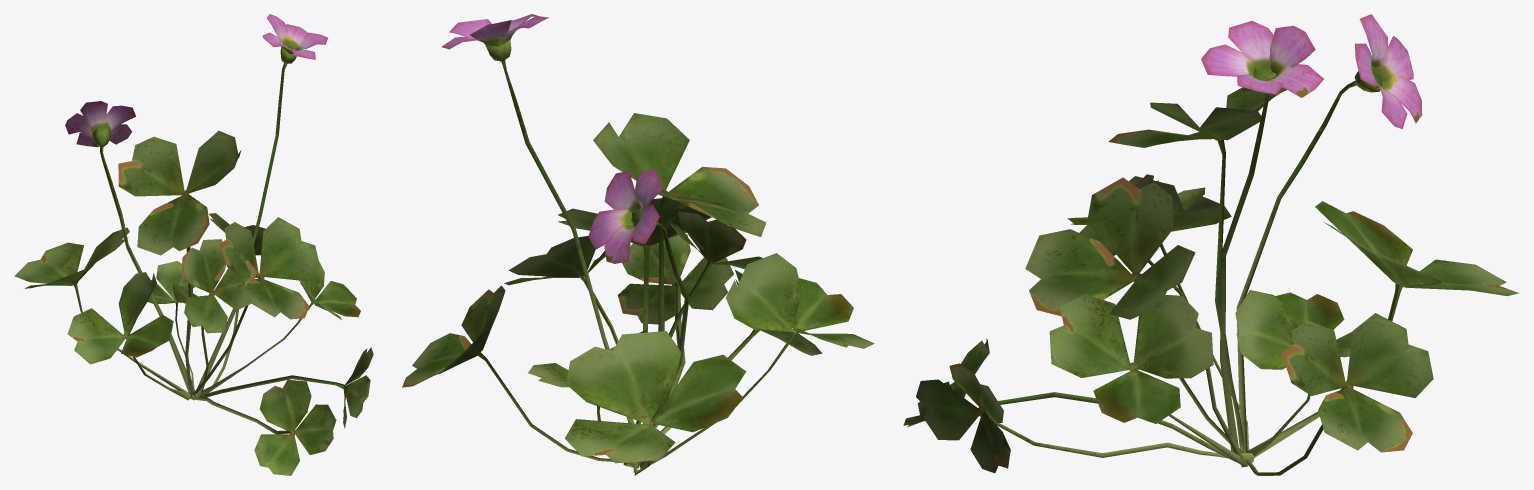
File: flower1.glb
The picture shows the model from 3 angles, left to right: view 1: azimuth 30°, elevation 25°; view 2: azimuth 150°, elevation 25°; view 3: azimuth 270°, elevation 25°; orthographic projection. The views are drawn at different scales.
Parts seen in each view (by area): view 1: shrub_sorrel_01_d.002; view 2: shrub_sorrel_01_d.002; view 3: shrub_sorrel_01_d.002.
Part boxes in pixels (left/top/right/bottom): shrub_sorrel_01_d.002: left=14, top=14, right=373, bottom=475; shrub_sorrel_01_d.002: left=402, top=14, right=874, bottom=475; shrub_sorrel_01_d.002: left=903, top=14, right=1518, bottom=475.
Bounding box in the file's own units: 1.76 × 2.01 × 2.24.
1 material, 1 textured.
